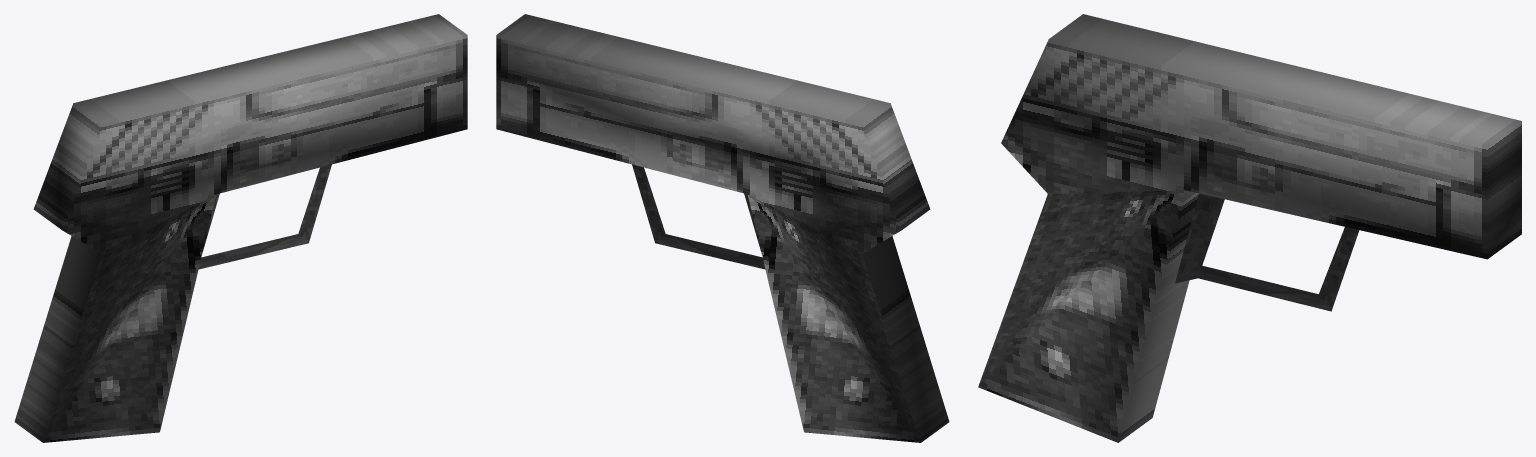
3 views of the same model, side by side, from view 1: azimuth 30°, elevation 25°; view 2: azimuth 150°, elevation 25°; view 3: azimuth 330°, elevation 25° (orthographic). The views are drawn at different scales.
Parts seen in each view (by area): view 1: N001_M11_low_v0200; view 2: N001_M11_low_v0200; view 3: N001_M11_low_v0200.
Part boxes in pixels (x1,y1,x2,y2): N001_M11_low_v0200: (14, 14, 467, 442); N001_M11_low_v0200: (496, 14, 949, 442); N001_M11_low_v0200: (978, 14, 1521, 442).
Bounding box in the file's own units: 0.244 × 0.1771 × 0.0285.
Materials: 1 (1 with a texture image).
